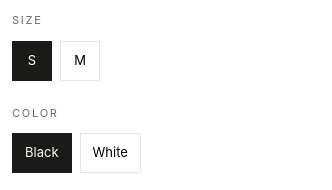
Test: VariantSelector › disables unavailable size/color combination
Note: Select size M first — then M+White is unavailable (variant 4 is deleted)
Click the button named "Size M" at x=80, y=60, box [60,40,100,80]
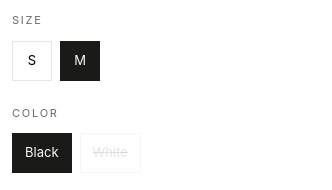
Now the button with aria-label "Color White (unavailable)" is disabled, box [80,133,141,173]
